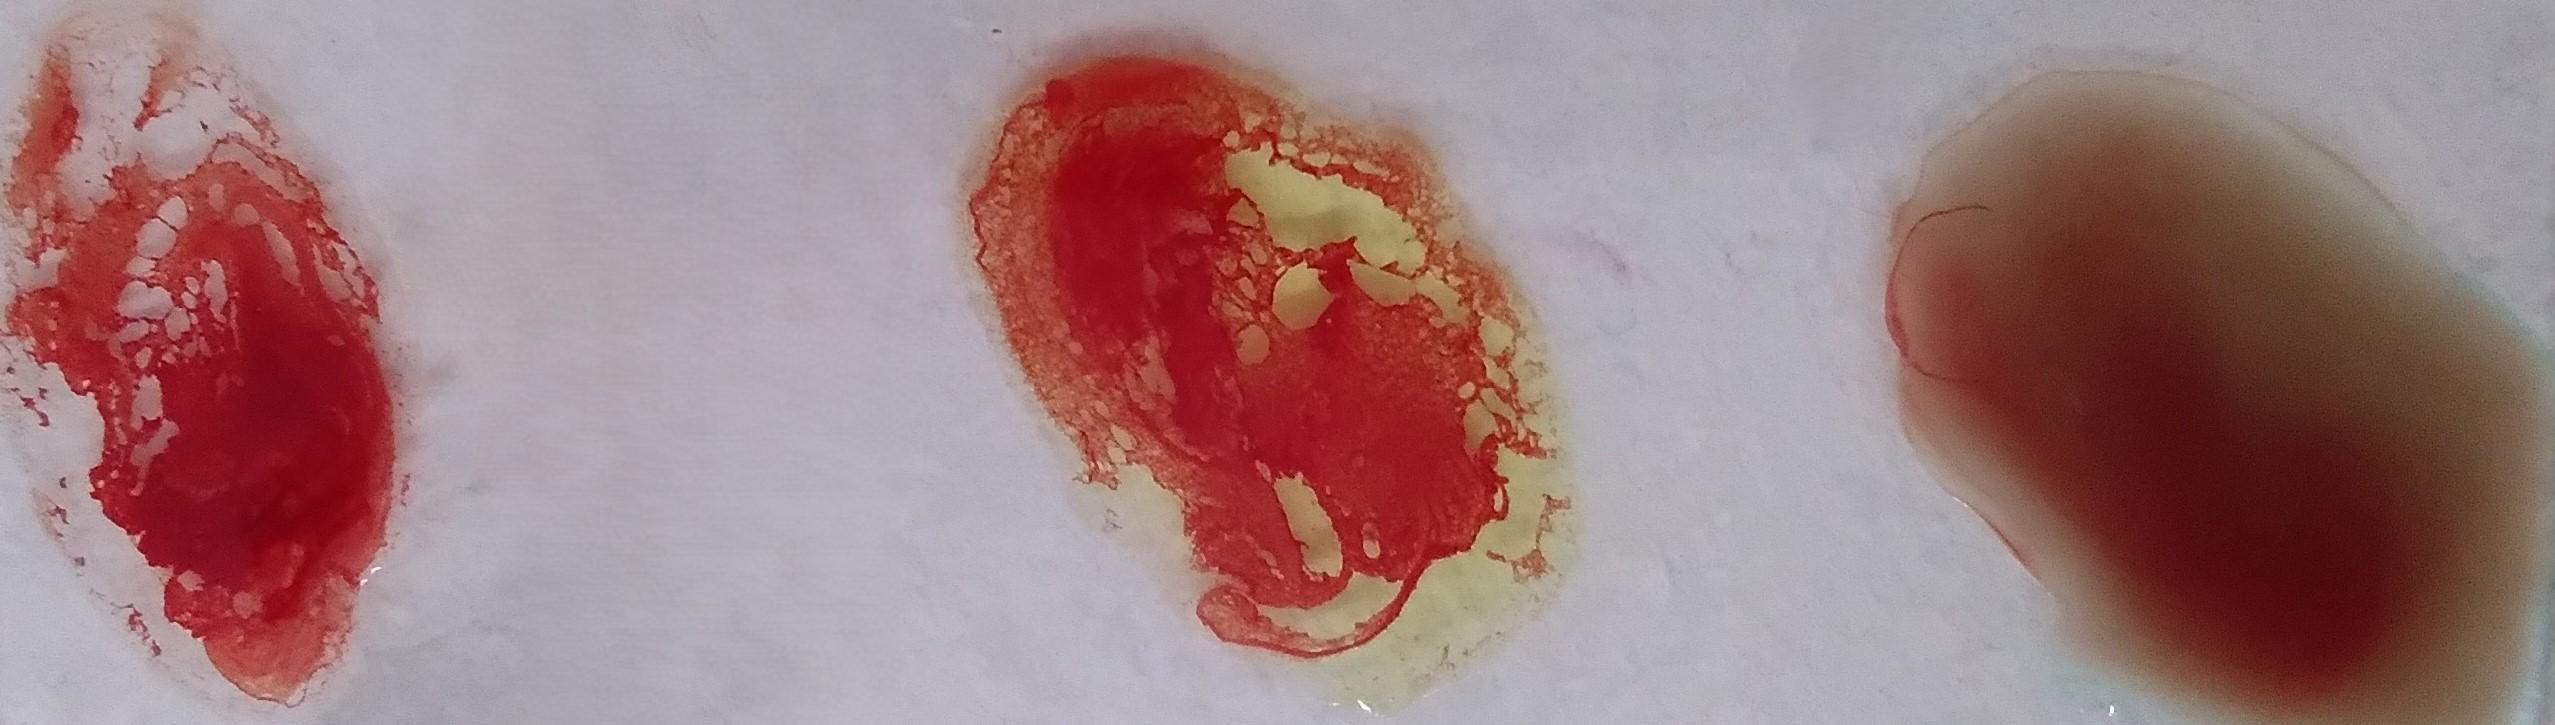B: (978, 37, 1607, 661)
D: (16, 31, 373, 720)
